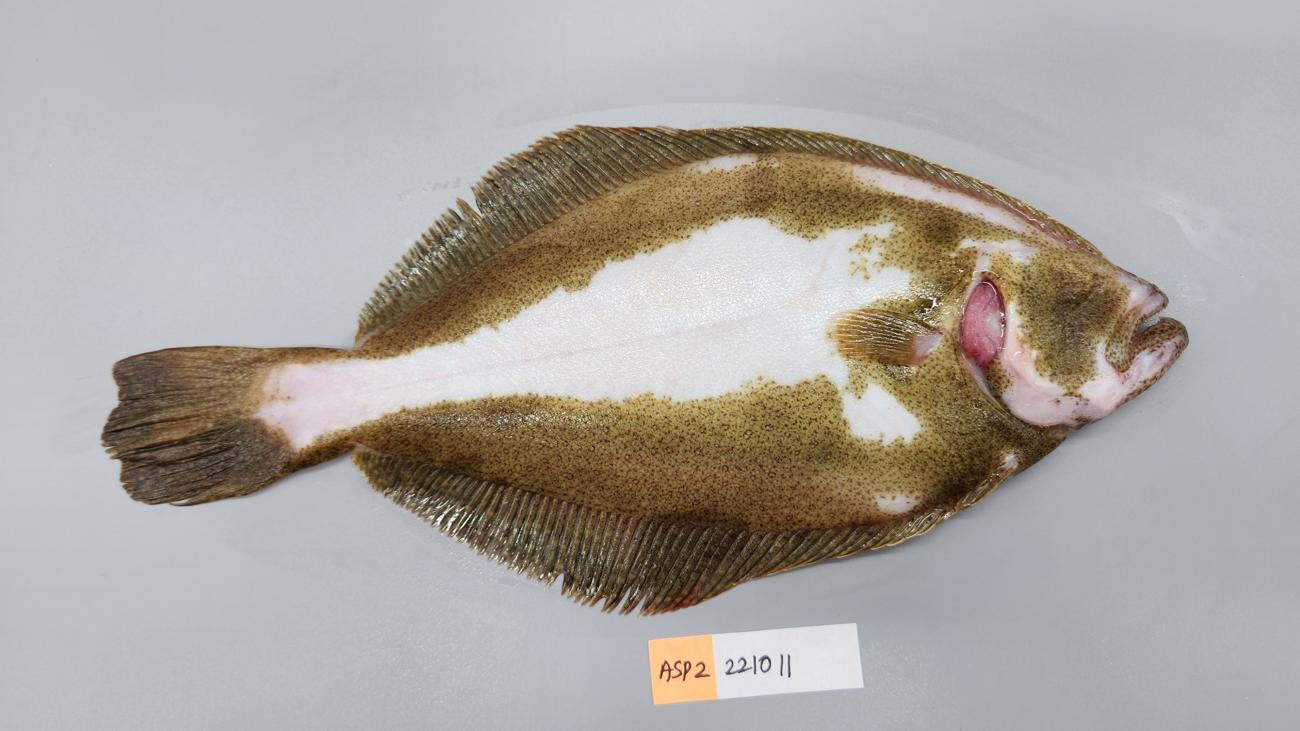SPFAH: (589, 491, 975, 613)
SPFCH: (105, 347, 264, 505)
SPOUY: (92, 117, 1193, 623)
